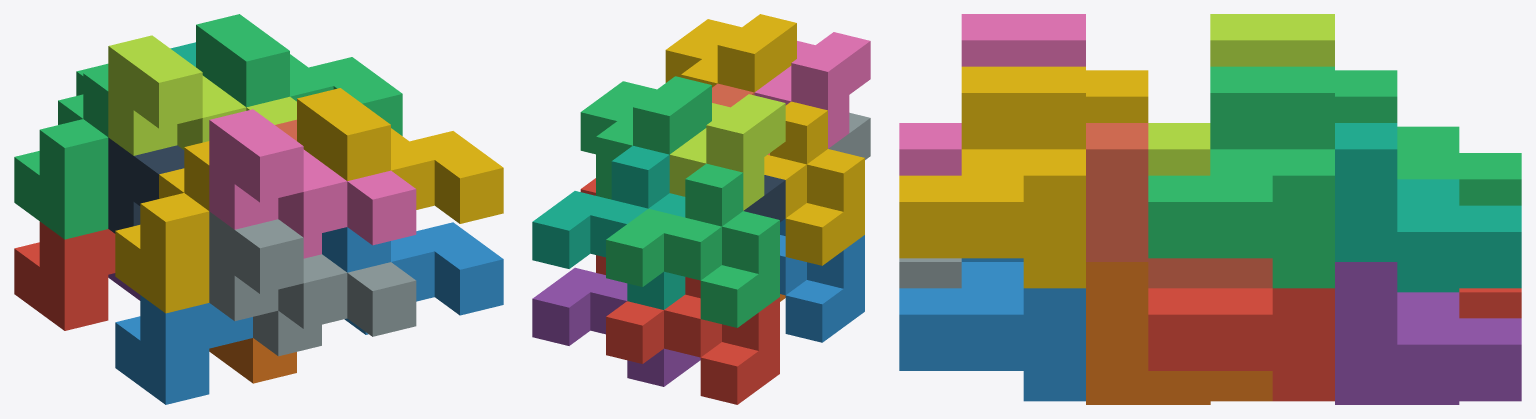
Rendered from tiling.obj.
3 renders of one model, left to right at view 1: azimuth 30°, elevation 25°; view 2: azimuth 150°, elevation 25°; view 3: azimuth 270°, elevation 25°, orthographic. The views are drawn at different scales.
Parts seen in each view (by area): view 1: copy_2_domain_2, copy_2_domain_4, copy_2_domain_8, copy_2_domain_3, copy_1_domain_3, copy_1_domain_4, copy_2_domain_7, copy_2_domain_6, copy_1_domain_2, copy_1_domain_1, copy_2_domain_1, copy_1_domain_6; view 2: copy_1_domain_3, copy_1_domain_1, copy_1_domain_4, copy_1_domain_7, copy_2_domain_7, copy_2_domain_8, copy_2_domain_3, copy_1_domain_5, copy_1_domain_2, copy_2_domain_4, copy_2_domain_1, copy_2_domain_2 (+2 smaller); view 3: copy_2_domain_7, copy_2_domain_8, copy_1_domain_5, copy_1_domain_7, copy_2_domain_6, copy_2_domain_5, copy_1_domain_6, copy_1_domain_8, copy_1_domain_3, copy_2_domain_3, copy_2_domain_4, copy_1_domain_4 (+2 smaller).
Part boxes in pixels (x1,y1,x2,y2): copy_2_domain_2: (209, 211, 416, 356); copy_2_domain_4: (209, 109, 416, 258); copy_2_domain_8: (297, 88, 503, 223); copy_2_domain_3: (108, 35, 296, 155); copy_1_domain_3: (14, 63, 108, 239); copy_1_domain_4: (115, 141, 209, 313); copy_2_domain_7: (196, 14, 402, 135); copy_2_domain_6: (322, 222, 503, 334); copy_1_domain_2: (115, 295, 252, 404); copy_1_domain_1: (14, 221, 115, 330); copy_2_domain_1: (108, 137, 184, 233); copy_1_domain_6: (209, 338, 296, 383); copy_1_domain_3: (606, 163, 779, 327); copy_1_domain_1: (606, 277, 779, 404); copy_1_domain_4: (764, 101, 864, 265); copy_1_domain_7: (532, 146, 685, 309); copy_2_domain_7: (580, 76, 711, 199); copy_2_domain_8: (665, 14, 796, 92); copy_2_domain_3: (669, 94, 785, 210); copy_1_domain_5: (532, 267, 700, 386); copy_1_domain_2: (780, 218, 864, 342); copy_2_domain_4: (754, 32, 870, 148); copy_2_domain_1: (744, 175, 785, 222); copy_2_domain_2: (828, 112, 870, 159); copy_2_domain_7: (1148, 66, 1334, 288); copy_2_domain_8: (899, 66, 1085, 288); copy_1_domain_5: (1335, 262, 1521, 404); copy_1_domain_7: (1335, 123, 1521, 292); copy_2_domain_6: (899, 258, 1085, 401); copy_2_domain_5: (1148, 288, 1334, 401); copy_1_domain_6: (1086, 262, 1272, 404); copy_1_domain_8: (1086, 123, 1272, 288); copy_1_domain_3: (1335, 70, 1521, 205); copy_2_domain_3: (1148, 14, 1334, 175); copy_2_domain_4: (899, 14, 1085, 175); copy_1_domain_4: (1086, 70, 1148, 122).
Bounding box in the file's own units: 6 × 6 × 10.
